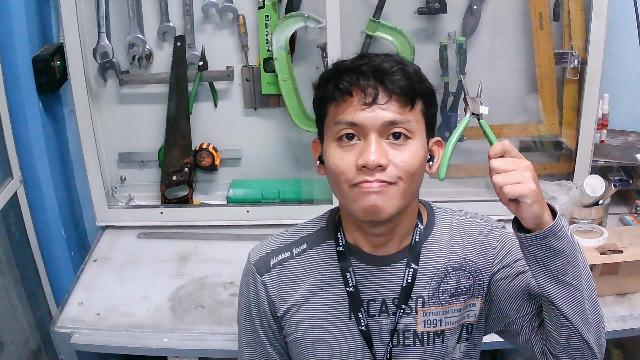tang_cucut_lancip_1: (435, 72, 513, 190)
